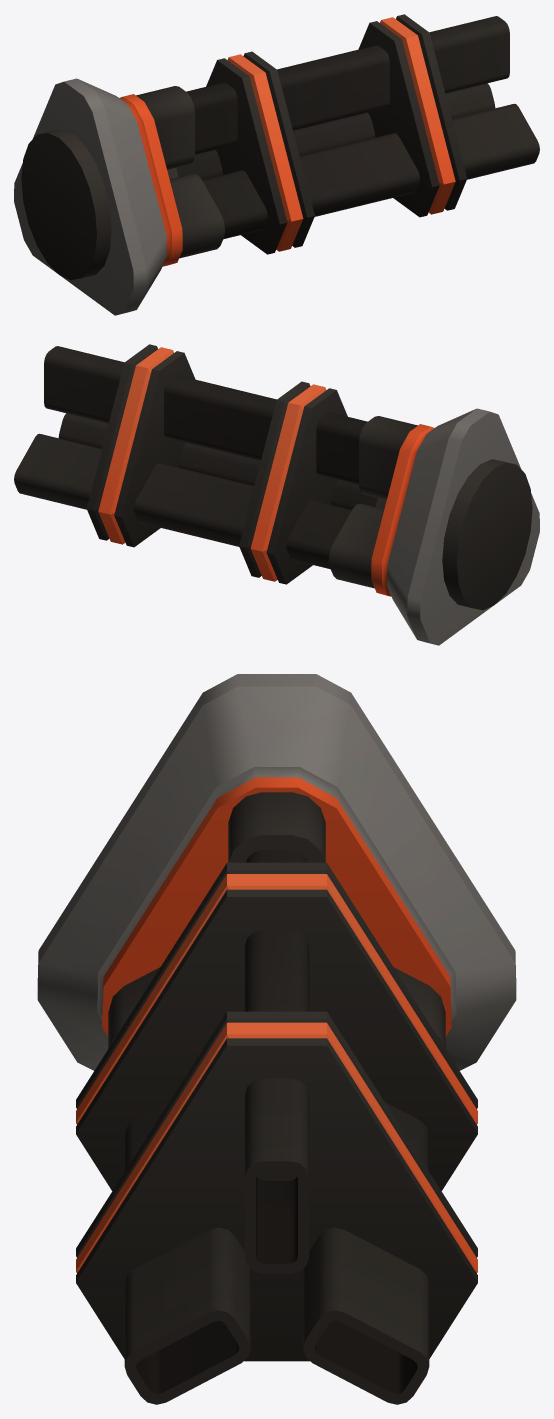
Rendered from MG5_Drum.fbx.
3 views of the same model, one above another, from view 1: azimuth 30°, elevation 25°; view 2: azimuth 150°, elevation 25°; view 3: azimuth 270°, elevation 25° (orthographic). The views are drawn at different scales.
Parts seen in each view (by area): view 1: MG5_Drum; view 2: MG5_Drum; view 3: MG5_Drum.
Part boxes in pixels (x1,y1,x2,y2): MG5_Drum: (14, 14, 539, 315); MG5_Drum: (14, 344, 539, 645); MG5_Drum: (37, 674, 516, 1404).
Bounding box in the file's own units: 42.07 × 17.87 × 19.7.
